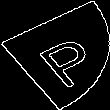P_NW: (15, 24, 95, 86)
